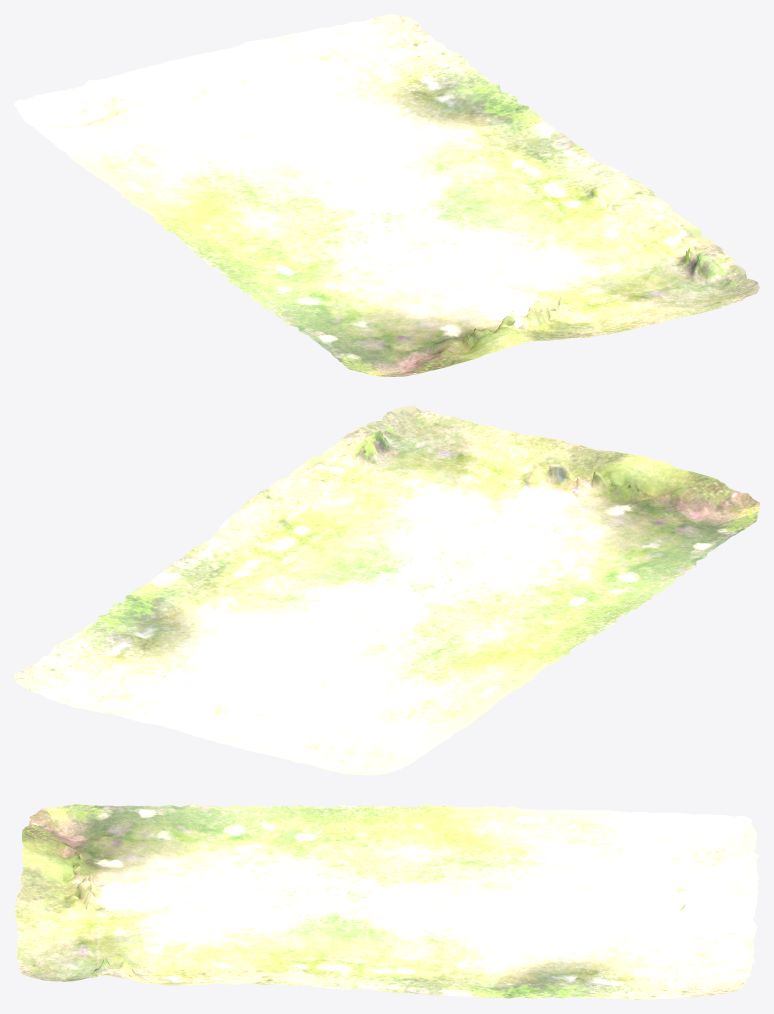
The model's file is piso.glb.
The picture shows the model from 3 angles, top to bottom: view 1: azimuth 30°, elevation 25°; view 2: azimuth 150°, elevation 25°; view 3: azimuth 270°, elevation 25°; orthographic projection. The views are drawn at different scales.
Visible parts, largest first — view 1: Mesh_0.001; view 2: Mesh_0.001; view 3: Mesh_0.001.
Boxes of the visible parts, <box> form: Mesh_0.001: <box>14,14,759,376</box>; Mesh_0.001: <box>14,405,759,775</box>; Mesh_0.001: <box>14,804,759,999</box>.
Size of the model in its own units: 190 by 15.03 by 317.
